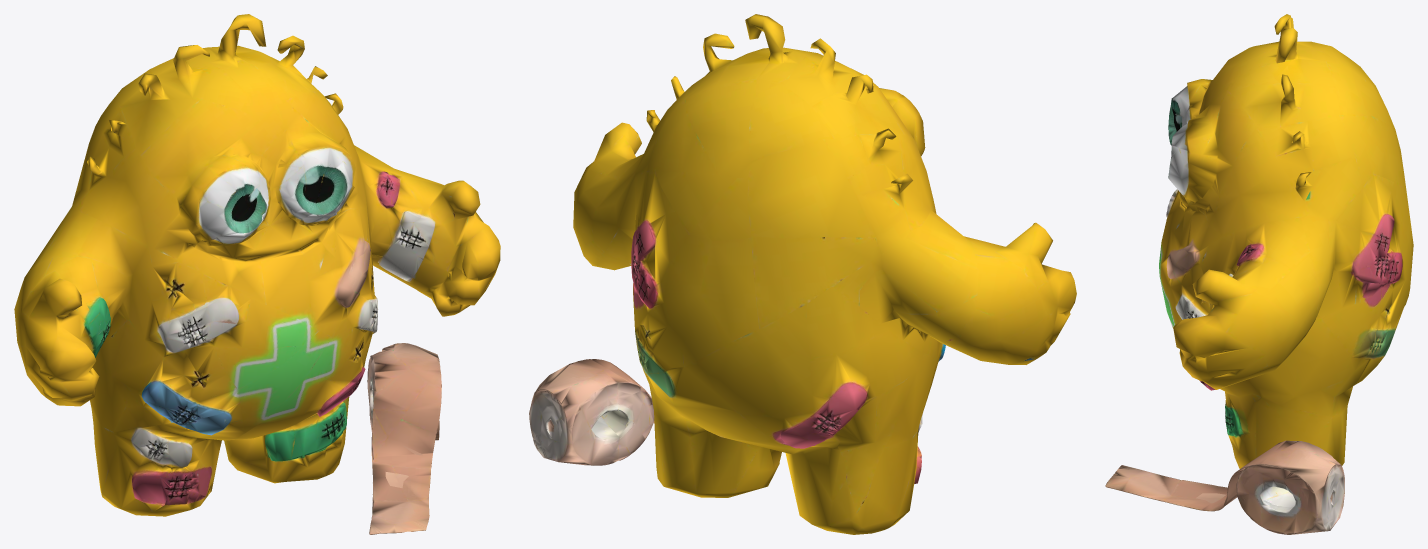
Rendered from recovery.glb.
3 views of the same model, side by side, from view 1: azimuth 30°, elevation 25°; view 2: azimuth 150°, elevation 25°; view 3: azimuth 270°, elevation 25° (orthographic). The views are drawn at different scales.
Size of the model in its own units: 1.89 by 1.82 by 1.2.
1 material, 1 textured.
